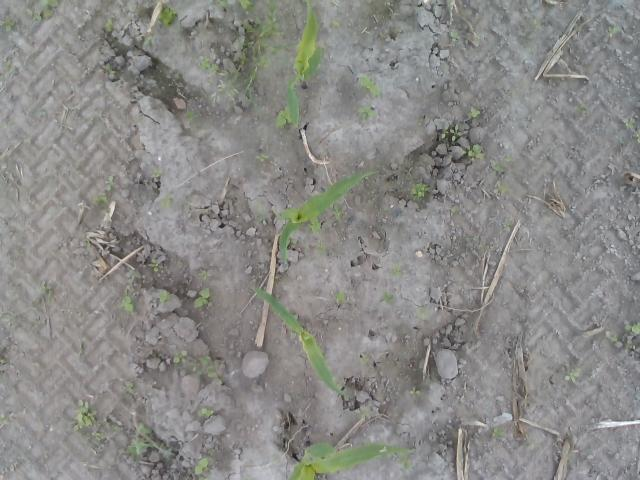Maize: (254, 286, 344, 397), (275, 171, 380, 264), (284, 0, 326, 130), (286, 443, 416, 480)
Weeds: (240, 16, 286, 68), (174, 349, 224, 382), (225, 67, 258, 108), (126, 420, 154, 454), (72, 398, 98, 432), (31, 0, 59, 23), (358, 73, 380, 98), (439, 122, 464, 143), (622, 116, 640, 144), (156, 6, 178, 28), (490, 155, 512, 177), (118, 287, 136, 313), (351, 104, 378, 120), (199, 57, 220, 77), (408, 181, 429, 201), (192, 287, 210, 310), (564, 366, 584, 385), (274, 107, 290, 129), (195, 455, 209, 480), (98, 418, 120, 432), (466, 144, 485, 160), (85, 432, 104, 448), (0, 15, 17, 32), (184, 110, 200, 128), (263, 0, 278, 19), (92, 192, 109, 208), (254, 152, 271, 168), (147, 256, 162, 274), (622, 321, 640, 336), (158, 192, 174, 208), (0, 357, 15, 374), (334, 288, 348, 304), (466, 105, 480, 120), (417, 307, 432, 321), (493, 180, 509, 193), (102, 16, 114, 33), (196, 405, 214, 416), (388, 263, 402, 277), (159, 290, 173, 304), (607, 25, 622, 38), (400, 459, 415, 472), (144, 36, 160, 48), (152, 166, 168, 178), (330, 18, 346, 30), (236, 0, 253, 11), (104, 176, 115, 192), (0, 312, 17, 322), (383, 291, 396, 304), (449, 30, 461, 44), (490, 426, 504, 438), (356, 406, 370, 418), (126, 270, 141, 281), (160, 448, 171, 463), (576, 103, 591, 114), (40, 448, 50, 464), (102, 61, 114, 74), (124, 383, 136, 396), (318, 239, 328, 254), (213, 0, 229, 9), (83, 237, 95, 249), (34, 107, 48, 117), (408, 387, 420, 398), (37, 286, 50, 296), (531, 18, 542, 29), (359, 354, 369, 366), (334, 207, 342, 221), (198, 270, 208, 281), (0, 414, 9, 424), (503, 223, 512, 232), (452, 207, 462, 215), (384, 0, 395, 7), (287, 238, 297, 245), (4, 63, 14, 70), (361, 176, 368, 183)
